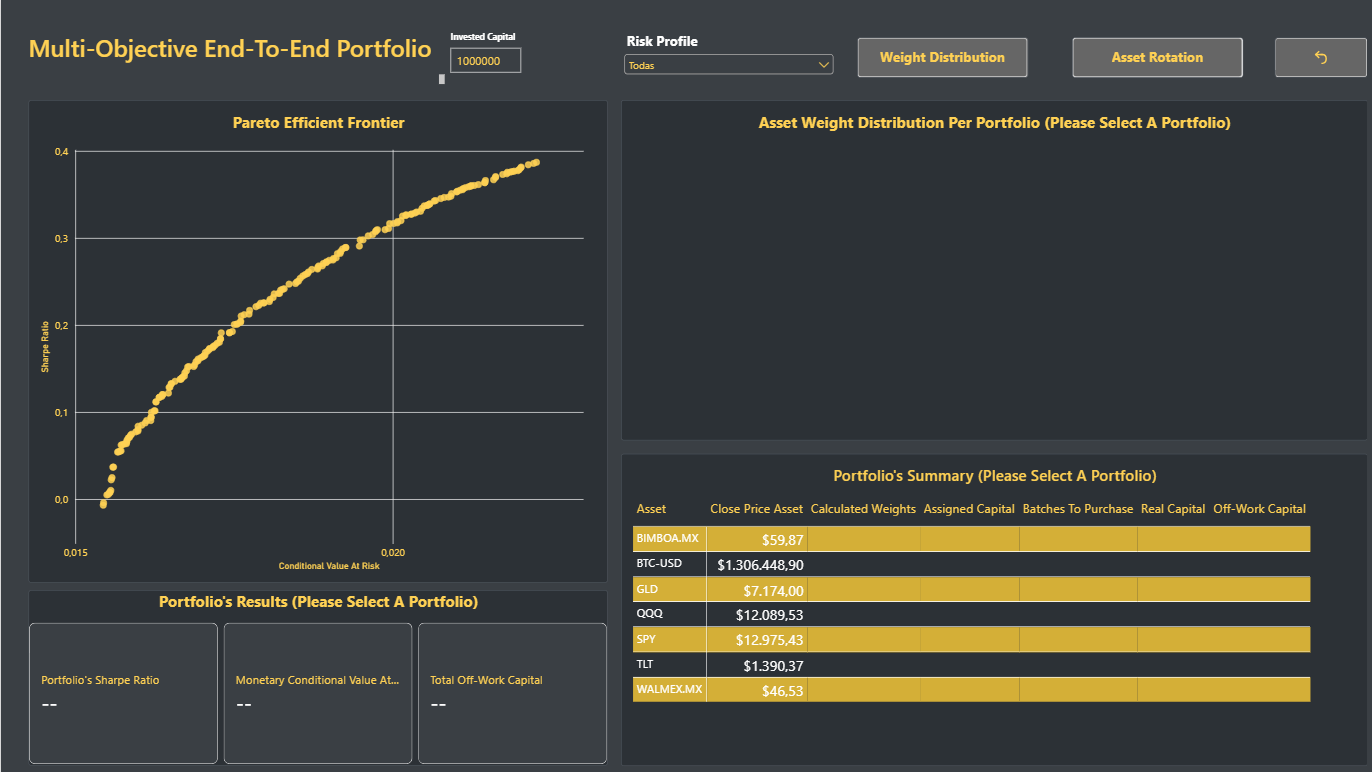

The page's visual inventory and layout, read from the dashboard file:
{"tool":"powerbi","page":{"name":"Página 1","canvas":[1920,1080],"ordinal":0},"visuals":[{"type":"scatterChart","title":"Pareto Efficient Frontier","fields":{"X":["Portafolios_Optimos_Con_Perfil.Conditional Value At Risk"],"Y":["Portafolios_Optimos_Con_Perfil.Sharpe Ratio"]},"box":[39,138.5,807.2,673],"z":0},{"type":"slicer","fields":{"Values":["Capital Invertido.Capital Invertido"]},"box":[618.9,43.3,227.2,95.2],"z":1000},{"type":"cardVisual","fields":{"Data":["Capital Invertido.Sharpe_Ratio","Capital Invertido.Monetary CVaR","Capital Invertido.Off-Work Capital"]},"box":[39,822.4,807.2,244.5],"z":2000},{"type":"pivotTable","fields":{"Rows":["Precios_De_Activo.Ticker"],"Values":["Sum(Precios_De_Activo.Precio_de_Cierre)","Capital Invertido.Pesos Teoricos","Capital Invertido.Capital Asignado","Capital Invertido.Lotes A Comprar","Capital Invertido.Peso Real","Capital Invertido.Real Off-Work Capital"]},"box":[863.5,631.9,1041,435],"z":3000},{"type":"slicer","fields":{"Values":["Portafolios_Optimos_Con_Perfil.Perfil_De_Riesgo"]},"box":[863.5,43.3,300.8,73.6],"z":4000},{"type":"actionButton","title":"Ver Rotacion de Activos","box":[1493.3,51.9,238.1,56.3],"z":7000},{"type":"actionButton","title":"Ver Rotacion de Activos","box":[1192.4,51.9,238.1,56.3],"z":8000},{"type":"barChart","fields":{"Category":["Pesos_Optimos_Por_Ticker.Ticker"],"Y":["Capital Invertido.Pesos Teoricos"]},"box":[863.8,139.4,1038.8,473.9],"z":8500},{"type":"pieChart","fields":{"Category":["Pesos_Optimos_Por_Ticker.Ticker"],"Y":["Capital Invertido.Pesos Teoricos"]},"box":[863.8,139.4,1040.6,474.1],"z":8750},{"type":"actionButton","box":[1774.6,51.9,129.8,56.3],"z":9000},{"type":"textbox","title":"Multi-Objective End-To-End Portfolio","box":[39,43.3,580,73.6],"z":10000}]}

Visuals, with their boxes in screenshot pixels (x1, y1, x2, y2), scaled from the page's 1920x1080 canvas onto the 1372x772 screenshot:
"Pareto Efficient Frontier" scatterChart: pyautogui.locateOnScreen(28, 99, 605, 580)
slicer - Capital Invertido.Capital Invertido: pyautogui.locateOnScreen(442, 31, 605, 99)
cardVisual - Capital Invertido.Sharpe_Ratio x Capital Invertido.Monetary CVaR: pyautogui.locateOnScreen(28, 588, 605, 763)
pivotTable - Precios_De_Activo.Ticker x Sum(Precios_De_Activo.Precio_de_Cierre): pyautogui.locateOnScreen(617, 452, 1361, 763)
slicer - Portafolios_Optimos_Con_Perfil.Perfil_De_Riesgo: pyautogui.locateOnScreen(617, 31, 832, 84)
"Ver Rotacion de Activos" actionButton: pyautogui.locateOnScreen(1067, 37, 1237, 77)
"Ver Rotacion de Activos" actionButton: pyautogui.locateOnScreen(852, 37, 1022, 77)
barChart - Pesos_Optimos_Por_Ticker.Ticker x Capital Invertido.Pesos Teoricos: pyautogui.locateOnScreen(617, 100, 1360, 438)
pieChart - Pesos_Optimos_Por_Ticker.Ticker x Capital Invertido.Pesos Teoricos: pyautogui.locateOnScreen(617, 100, 1361, 439)
actionButton: pyautogui.locateOnScreen(1268, 37, 1361, 77)
"Multi-Objective End-To-End Portfolio" textbox: pyautogui.locateOnScreen(28, 31, 442, 84)
